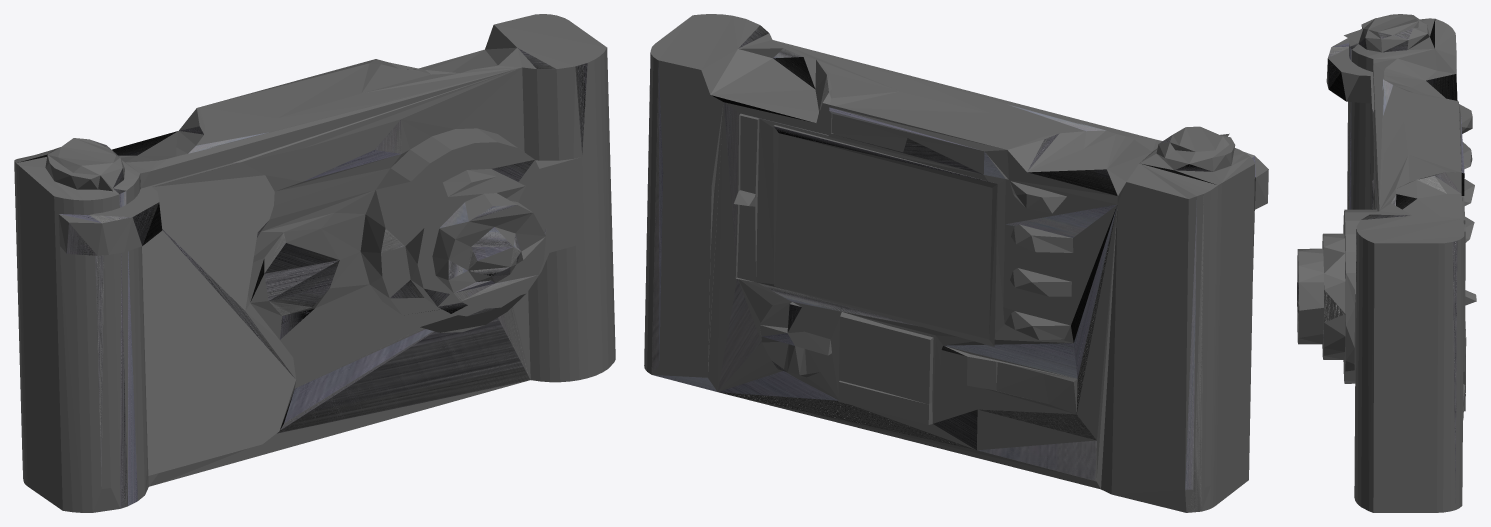
Rendered from model_align.obj.
3 renders of one model, left to right at view 1: azimuth 30°, elevation 25°; view 2: azimuth 150°, elevation 25°; view 3: azimuth 270°, elevation 25°, orthographic. The views are drawn at different scales.
Size of the model in its own units: 0.1327 by 0.077 by 0.0431.
3 materials, 3 textured.
